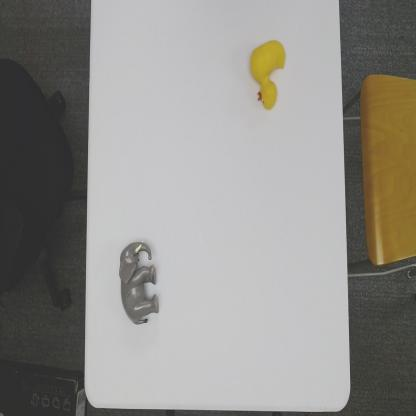Duck: (249, 38, 286, 111)
Elephant: (118, 237, 160, 327)
